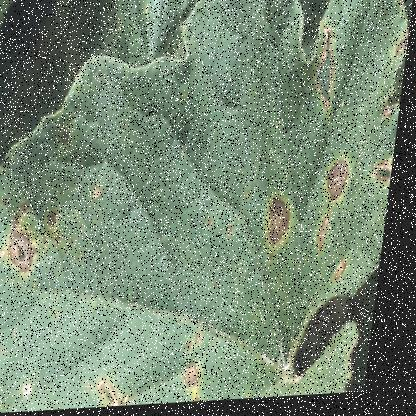AlternariaBrassicicola: (261, 188, 301, 271), (4, 210, 45, 284), (326, 152, 358, 210), (317, 209, 342, 267), (188, 357, 218, 400), (371, 157, 398, 198), (336, 254, 359, 288), (51, 205, 70, 236)
